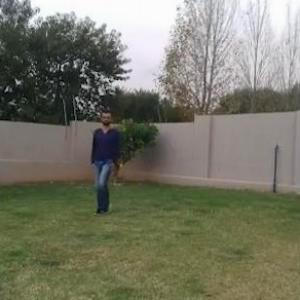follow: (92, 107, 118, 213)
